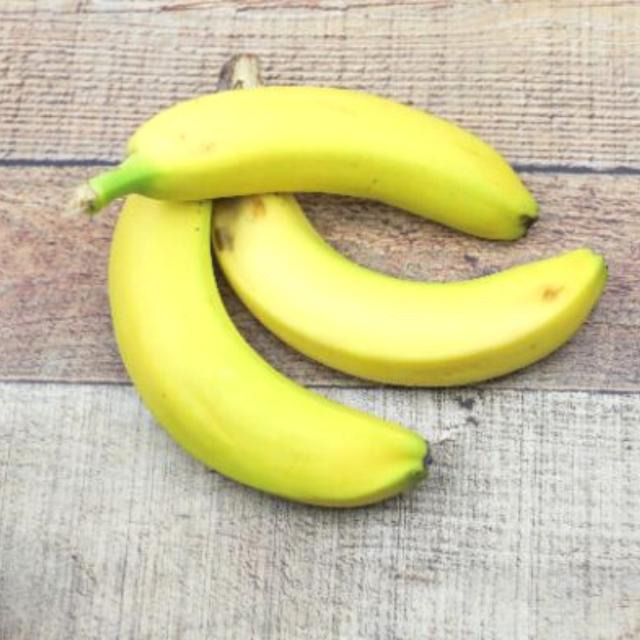Bananas: (111, 193, 431, 513), (74, 84, 540, 244), (218, 195, 604, 388)
